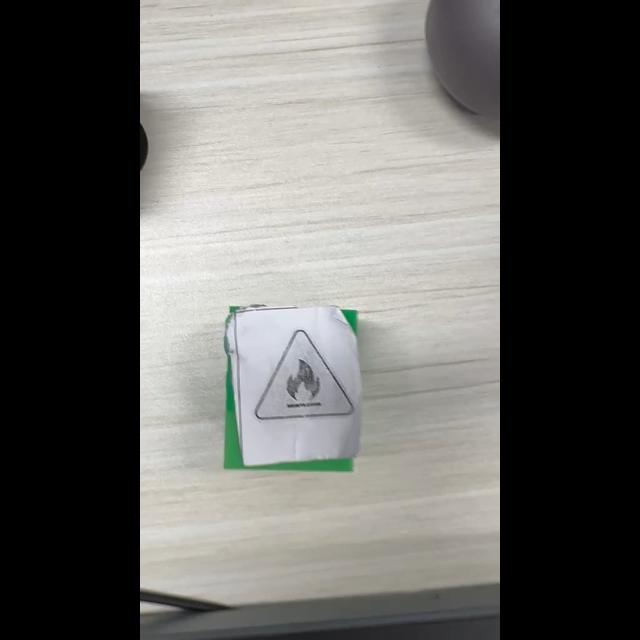Fire: (255, 329, 354, 421)
